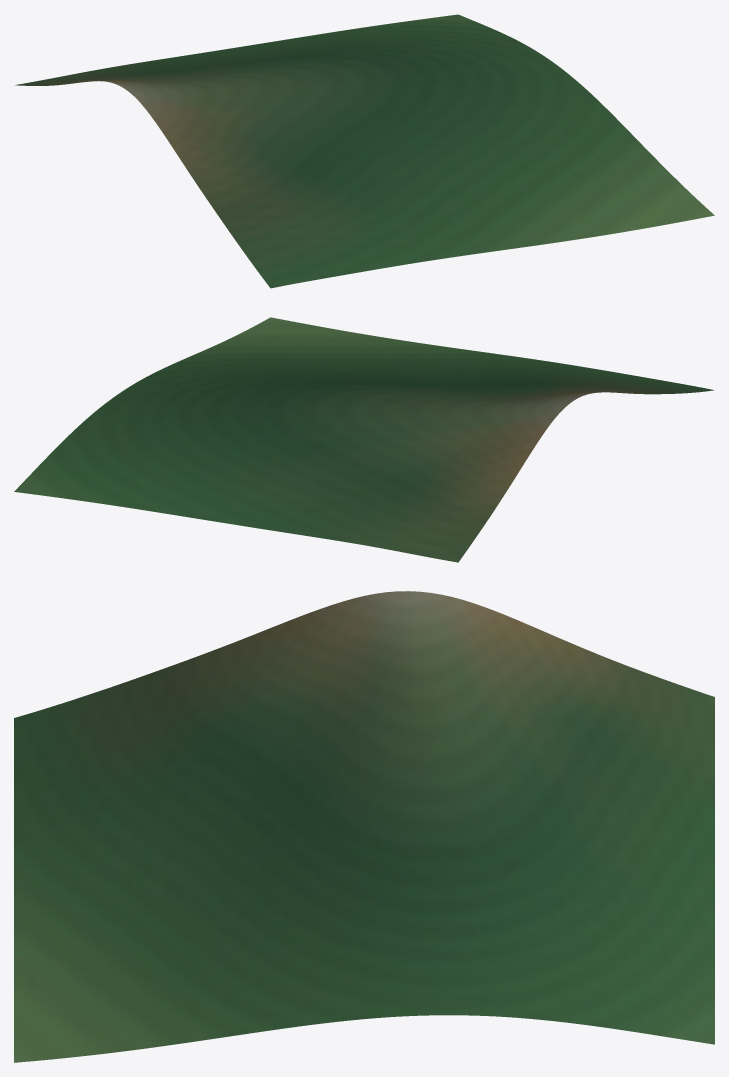
The model's file is terrain_T_E01_N06.glb.
The picture shows the model from 3 angles, top to bottom: view 1: azimuth 30°, elevation 25°; view 2: azimuth 150°, elevation 25°; view 3: azimuth 270°, elevation 25°; orthographic projection. The views are drawn at different scales.
Visible parts, largest first — view 1: Terrain_T_E01_N06; view 2: Terrain_T_E01_N06; view 3: Terrain_T_E01_N06.
Boxes of the visible parts, x1,y1,x2,y2 form: Terrain_T_E01_N06: (15,14,714,288); Terrain_T_E01_N06: (14,317,713,562); Terrain_T_E01_N06: (14,591,714,1062).
Size of the model in its own units: 2000 by 552 by 2000.
Materials: 1 (1 with a texture image).
